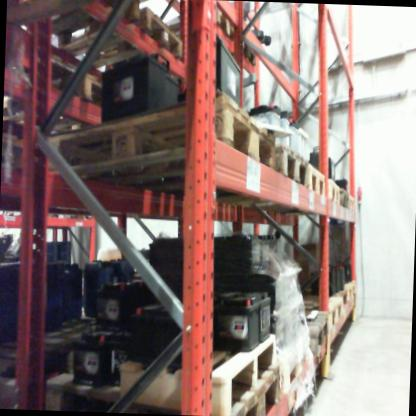pallet: (42, 78, 277, 201), (115, 319, 287, 409), (42, 359, 288, 416), (126, 130, 307, 202), (45, 8, 191, 70), (9, 0, 144, 57), (256, 309, 332, 362), (274, 291, 345, 331), (269, 339, 313, 390), (207, 5, 247, 45), (303, 151, 330, 209), (2, 109, 43, 147), (320, 173, 340, 210), (335, 276, 362, 298), (338, 183, 351, 213), (348, 191, 358, 213)
